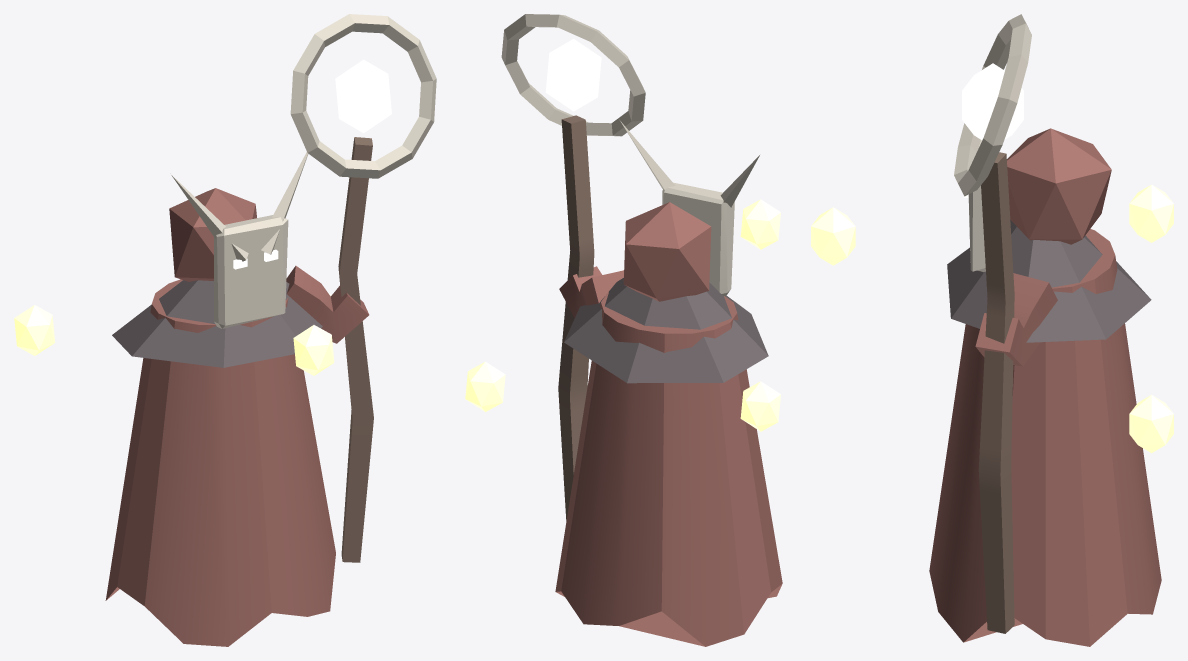
The model's file is EN_Ember_MagmaShaman_C.fbx.
3 renders of one model, left to right at view 1: azimuth 30°, elevation 25°; view 2: azimuth 150°, elevation 25°; view 3: azimuth 270°, elevation 25°, orthographic. The views are drawn at different scales.
Parts seen in each view (by area): view 1: EN_Ember_MagmaShaman_C; view 2: EN_Ember_MagmaShaman_C; view 3: EN_Ember_MagmaShaman_C.
Boxes of the visible parts, x1=… form: EN_Ember_MagmaShaman_C: x1=14, y1=14, x2=436, y2=646; EN_Ember_MagmaShaman_C: x1=465, y1=14, x2=782, y2=646; EN_Ember_MagmaShaman_C: x1=811, y1=14, x2=1173, y2=646.
Bounding box in the file's own units: 2.28 × 3.52 × 1.8.
